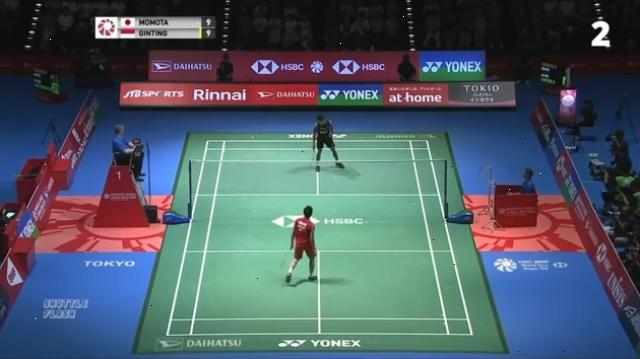Shuttlecock: (249, 132, 259, 142)
